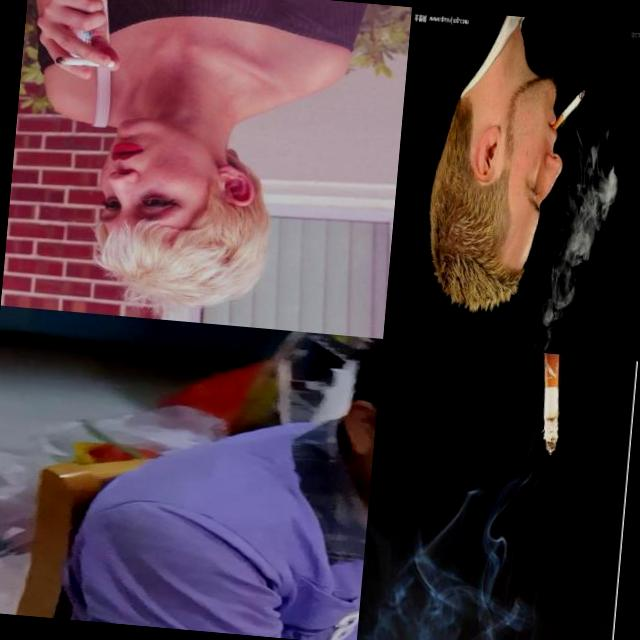smoke: (534, 353, 566, 458), (550, 84, 586, 138), (52, 50, 119, 74)
